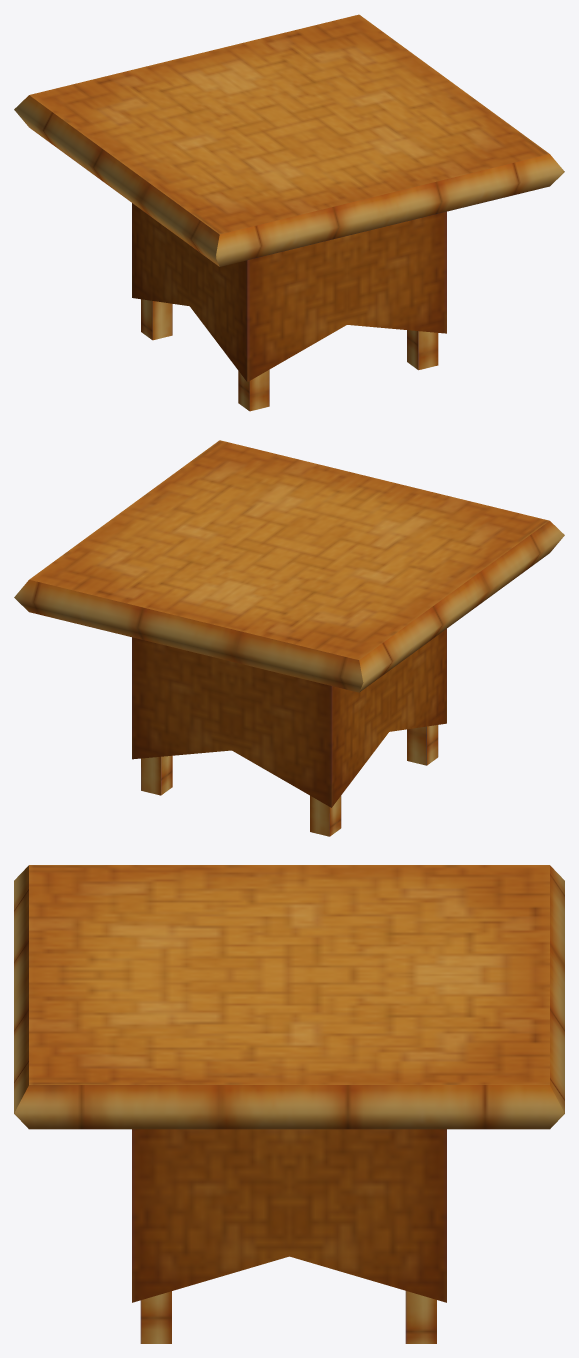
File: Bamboo_Table_02.fbx
The picture shows the model from 3 angles, top to bottom: view 1: azimuth 30°, elevation 25°; view 2: azimuth 150°, elevation 25°; view 3: azimuth 270°, elevation 25°; orthographic projection. The views are drawn at different scales.
Parts seen in each view (by area): view 1: Bamboo_Table_02; view 2: Bamboo_Table_02; view 3: Bamboo_Table_02.
Boxes of the visible parts, box(x1,y1,x2,y2) form: Bamboo_Table_02: box(14, 14, 564, 411); Bamboo_Table_02: box(14, 440, 564, 836); Bamboo_Table_02: box(14, 865, 564, 1343).
Bounding box in the file's own units: 42.32 × 25.94 × 42.32.
